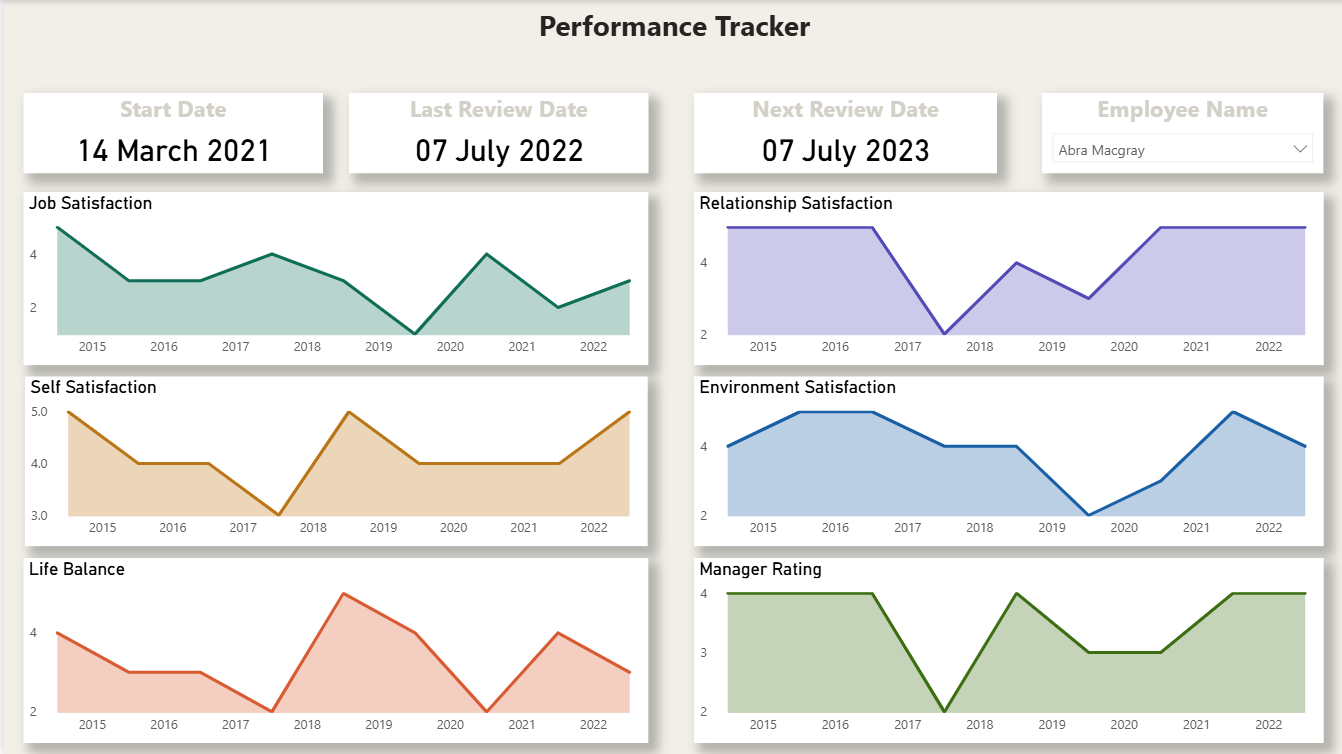

What the dashboard file says about the page in this screenshot:
{"tool":"powerbi","page":{"name":"Performance Tracker Dashboard","canvas":[1280,720],"ordinal":2},"visuals":[{"type":"textbox","box":[0,0,1280.4,68.4],"z":0},{"type":"card","title":"Start Date","fields":{"Values":["Min(Employee.HireDate)"]},"box":[19.1,89.1,286.3,76.3],"z":1000},{"type":"card","title":"Last Review Date","fields":{"Values":["_Metrics.Last Review"]},"box":[329.3,89.1,286.3,76.3],"z":2000},{"type":"card","title":"Next Review Date","fields":{"Values":["_Metrics.NextReviewDate"]},"box":[658.5,89.1,289.5,76.3],"z":3000},{"type":"slicer","title":"Employee Name","fields":{"Values":["Employee.Employee_Fullname"]},"box":[991,89.1,268.8,76.3],"z":4000},{"type":"lineChart","title":"Job Satisfaction","fields":{"Y":["Avg(PerformanceRating.JobSatisfaction)"],"Category":["PerformanceRating.ReviewDate"]},"box":[19.1,182.9,596.5,165.4],"z":5000},{"type":"lineChart","title":"Relationship Satisfaction","fields":{"Y":["Avg(PerformanceRating.RelationshipSatisfaction)"],"Category":["PerformanceRating.ReviewDate"]},"box":[658.5,182.9,601.3,165.4],"z":6000},{"type":"lineChart","title":"Self Satisfaction","fields":{"Y":["Avg(PerformanceRating.SelfRating)"],"Category":["PerformanceRating.ReviewDate"]},"box":[20.7,359.5,594.9,162.2],"z":7000},{"type":"lineChart","title":"Environment Satisfaction","fields":{"Y":["Avg(PerformanceRating.EnvironmentSatisfaction)"],"Category":["PerformanceRating.ReviewDate"]},"box":[658.5,359.5,601.3,162.2],"z":8000},{"type":"lineChart","title":"Manager Rating","fields":{"Y":["Avg(PerformanceRating.ManagerRating)"],"Category":["PerformanceRating.ReviewDate"]},"box":[658.5,532.9,601.3,176.6],"z":9000},{"type":"lineChart","title":"Life Balance","fields":{"Y":["Avg(PerformanceRating.WorkLifeBalance)"],"Category":["PerformanceRating.ReviewDate"]},"box":[19.1,532.9,596.5,176.6],"z":10000}]}

Visuals, with their boxes in screenshot pixels (x1, y1, x2, y2), scaled from the page's 1280x720 canvas onto the 1342x754 screenshot:
textbox: {"x1": 0, "y1": 0, "x2": 1341, "y2": 72}
"Start Date" card: {"x1": 20, "y1": 93, "x2": 320, "y2": 173}
"Last Review Date" card: {"x1": 345, "y1": 93, "x2": 645, "y2": 173}
"Next Review Date" card: {"x1": 690, "y1": 93, "x2": 994, "y2": 173}
"Employee Name" slicer: {"x1": 1039, "y1": 93, "x2": 1321, "y2": 173}
"Job Satisfaction" lineChart: {"x1": 20, "y1": 192, "x2": 645, "y2": 365}
"Relationship Satisfaction" lineChart: {"x1": 690, "y1": 192, "x2": 1321, "y2": 365}
"Self Satisfaction" lineChart: {"x1": 22, "y1": 376, "x2": 645, "y2": 546}
"Environment Satisfaction" lineChart: {"x1": 690, "y1": 376, "x2": 1321, "y2": 546}
"Manager Rating" lineChart: {"x1": 690, "y1": 558, "x2": 1321, "y2": 743}
"Life Balance" lineChart: {"x1": 20, "y1": 558, "x2": 645, "y2": 743}
